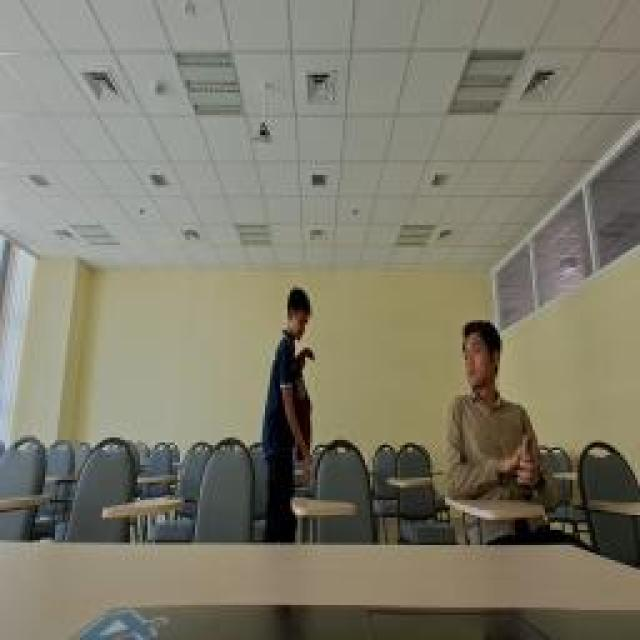study: (440, 308, 548, 498)
